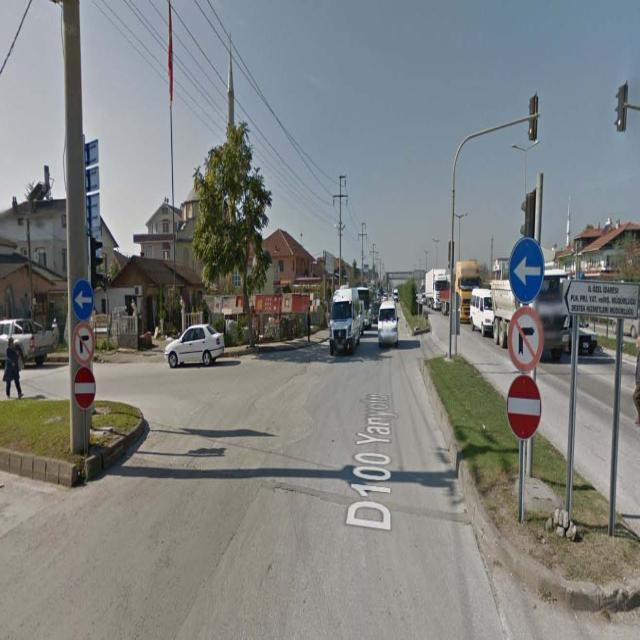girisyok: (506, 374, 544, 444)
sagadonulmez: (507, 310, 545, 370), (70, 322, 98, 364)
sol: (508, 237, 544, 301), (71, 278, 94, 320)
